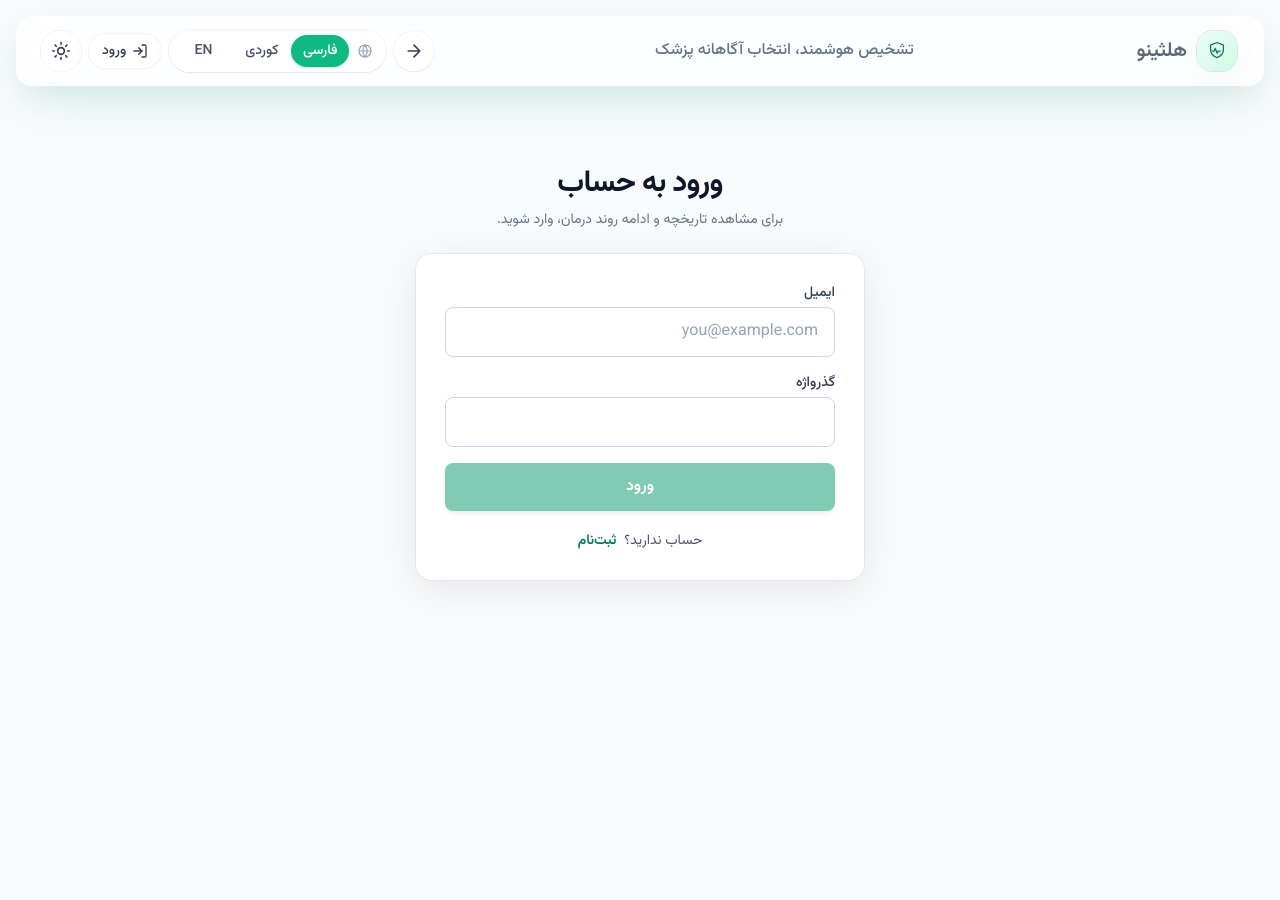
Toast — Logout flow › shows the error toast when login fails
Type "x@y.io" into the field with test id "login-email".
click(640, 332); type("x@y.io")  # box top-left (445, 307), bottom-right (835, 357)
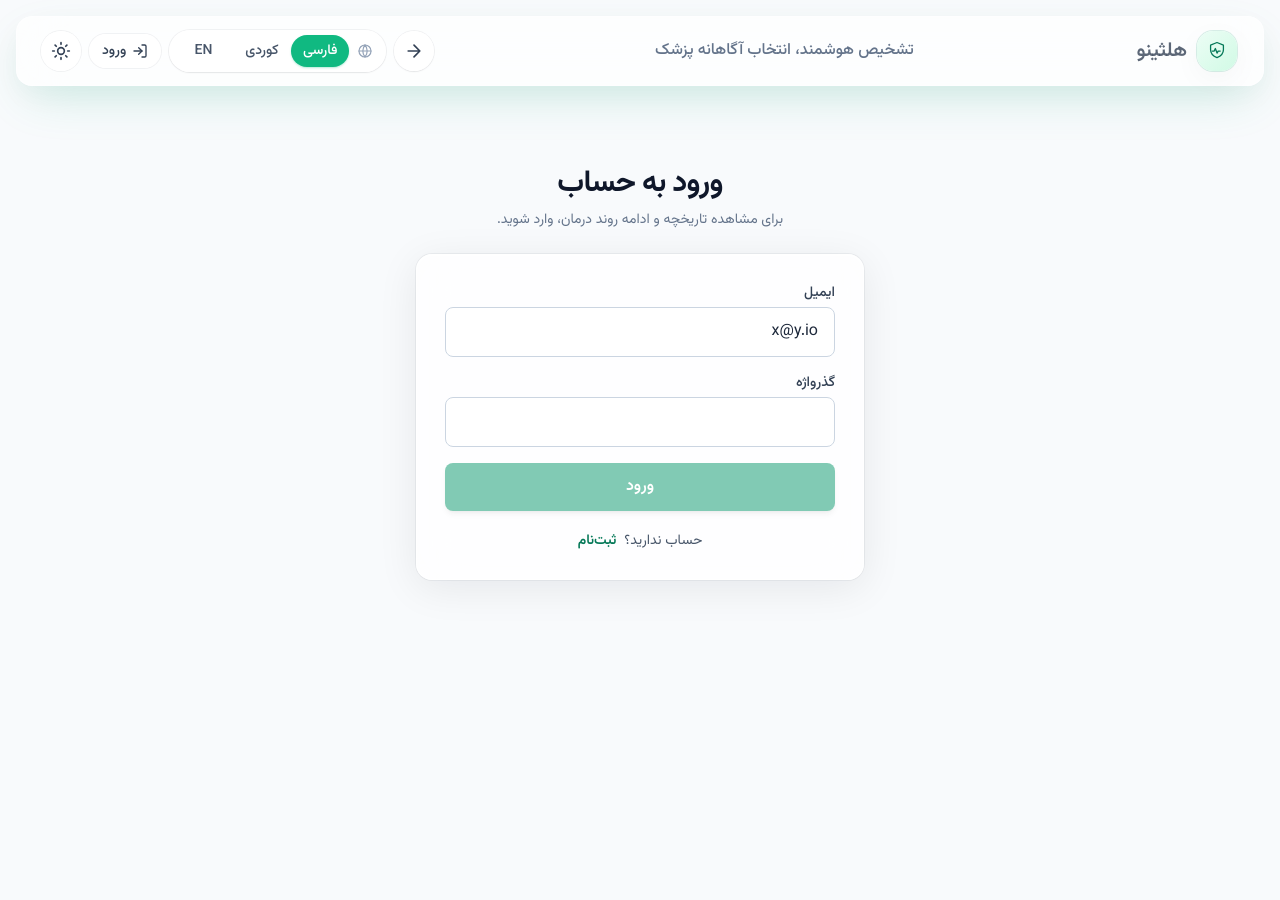
Type "whatever" into the password field with test id "login-password".
click(640, 422); type("whatever")  # box top-left (445, 397), bottom-right (835, 447)
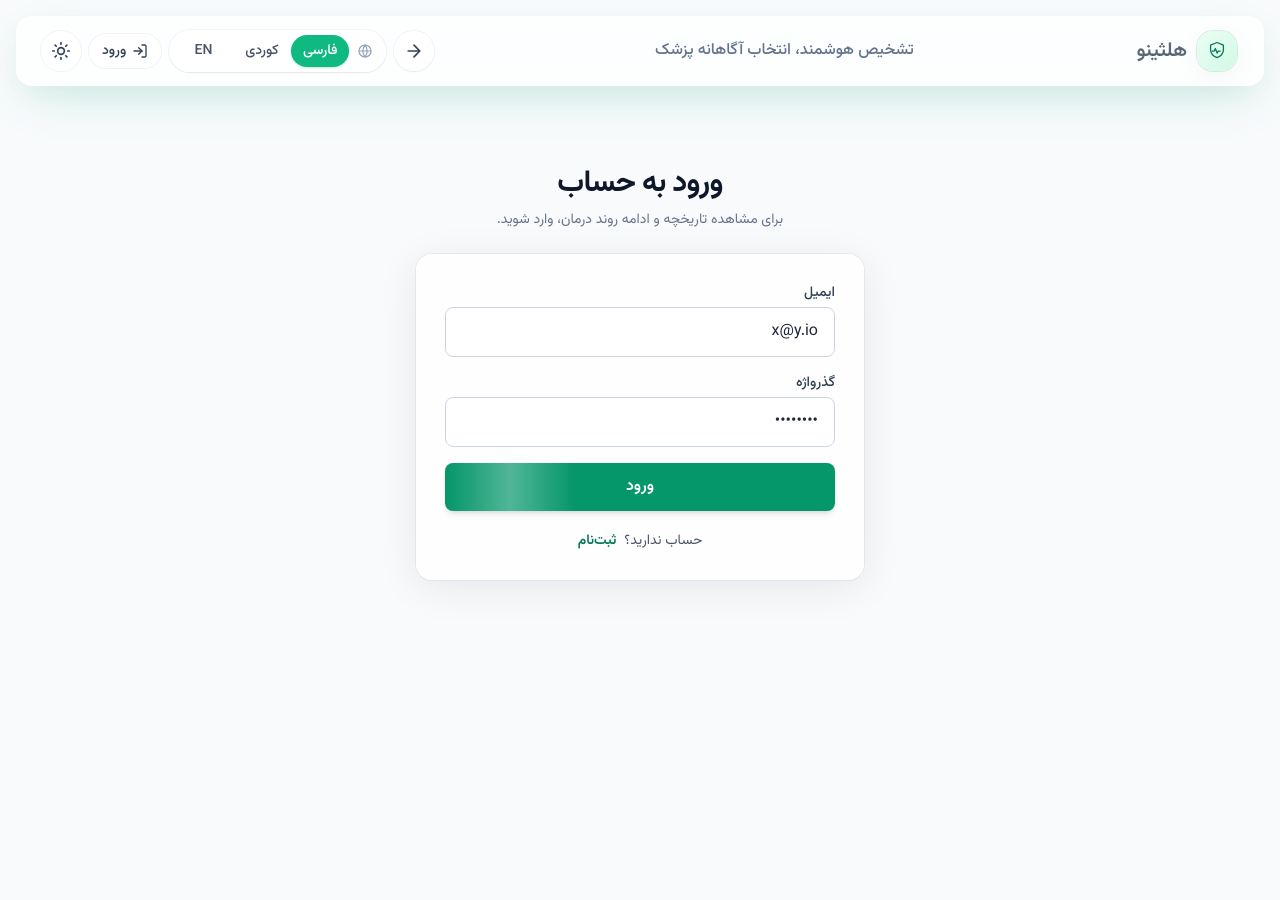
Submit the form, box top-left (445, 283), bottom-right (835, 511)
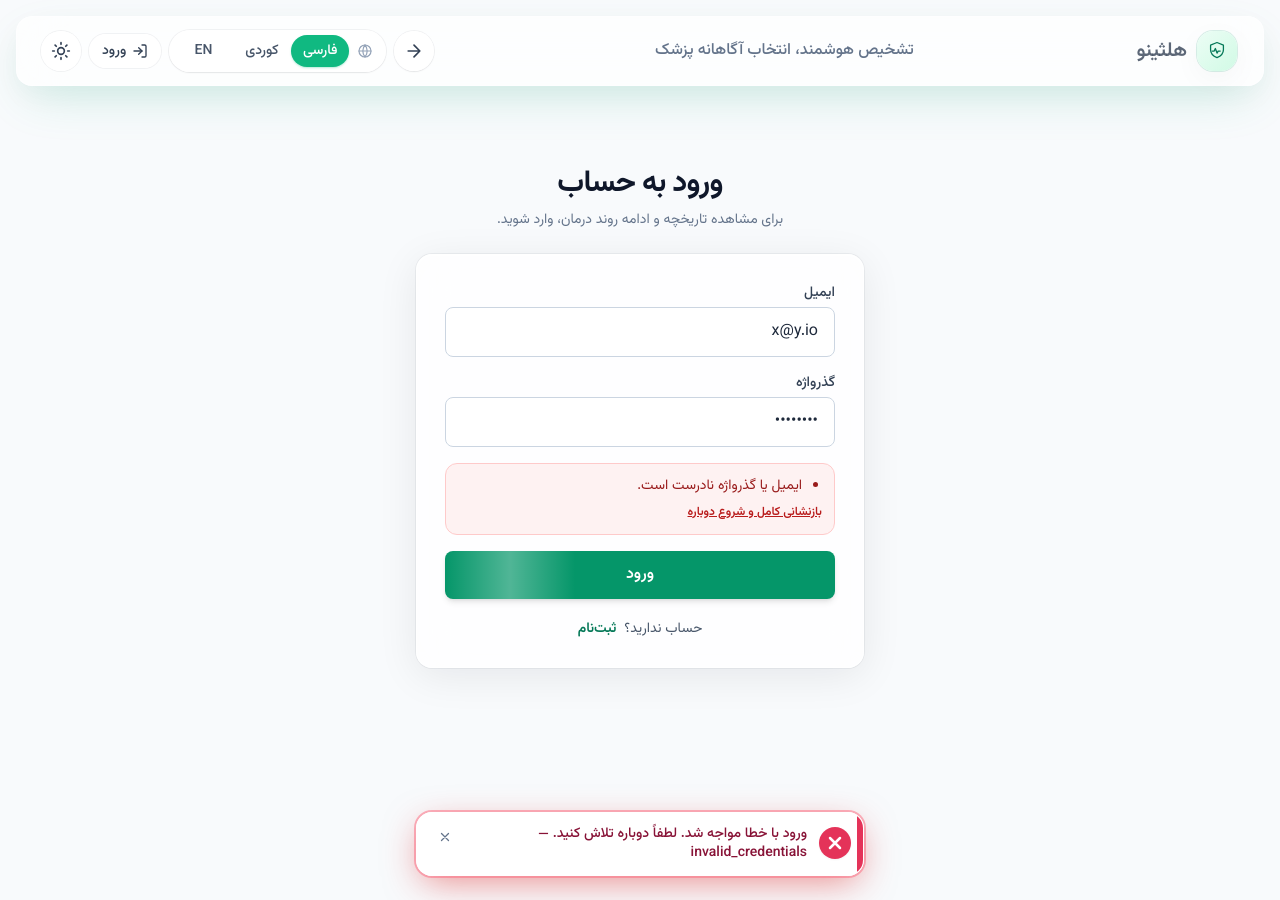
Now the message "ورود با خطا مواجه شد. لطفاً دوباره تلاش کنید. — invalid_credentials" is shown, box top-left (416, 812), bottom-right (864, 876)
